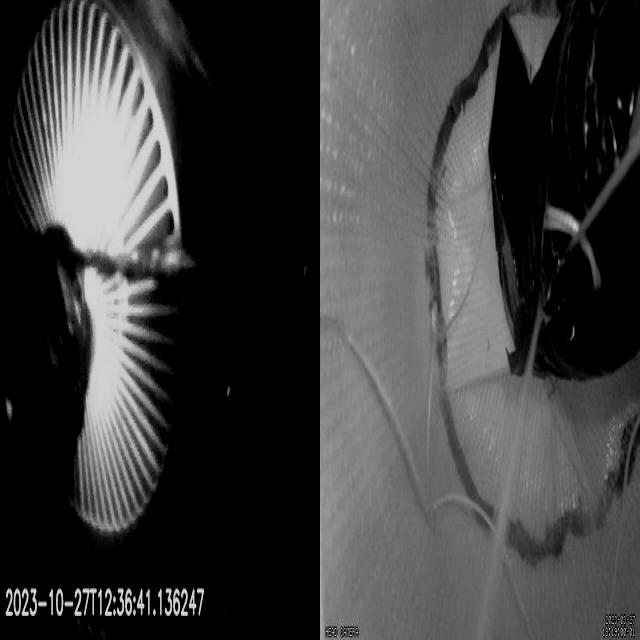red-circle: (426, 0, 640, 568)
